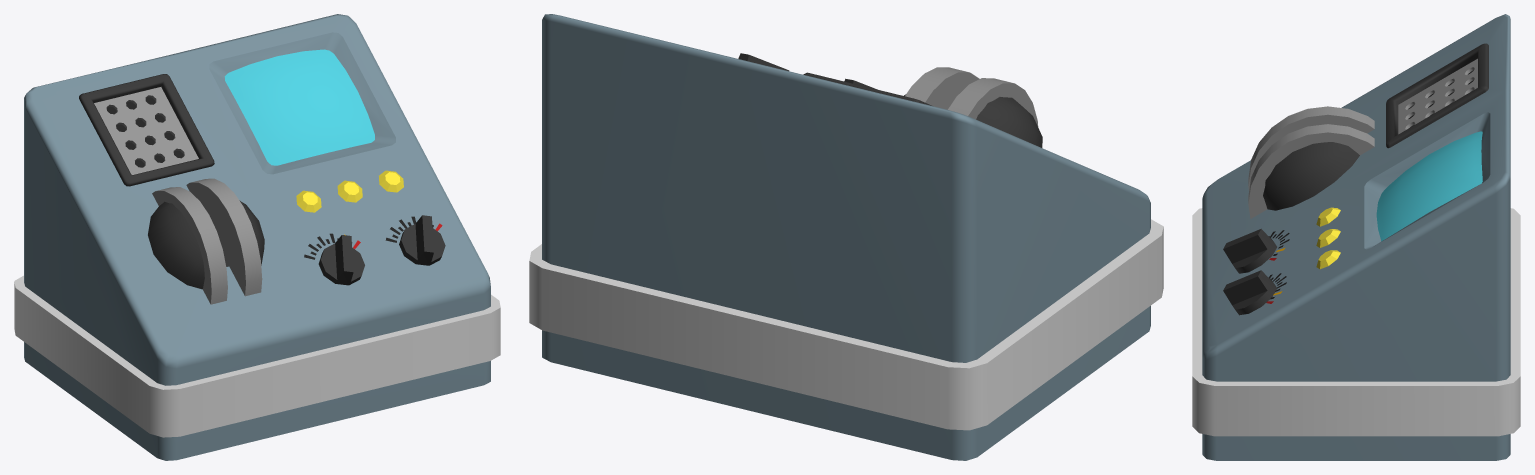
Rendered from console_1_001.fbx.
The picture shows the model from 3 angles, left to right: view 1: azimuth 30°, elevation 25°; view 2: azimuth 150°, elevation 25°; view 3: azimuth 270°, elevation 25°; orthographic projection. The views are drawn at different scales.
Visible parts, largest first — view 1: console_1_001; view 2: console_1_001; view 3: console_1_001.
Boxes of the visible parts, left/top/right/bottom form: console_1_001: left=14, top=14, right=500, bottom=460; console_1_001: left=529, top=14, right=1163, bottom=460; console_1_001: left=1192, top=14, right=1520, bottom=460.
Size of the model in its own units: 218 by 167 by 158.
